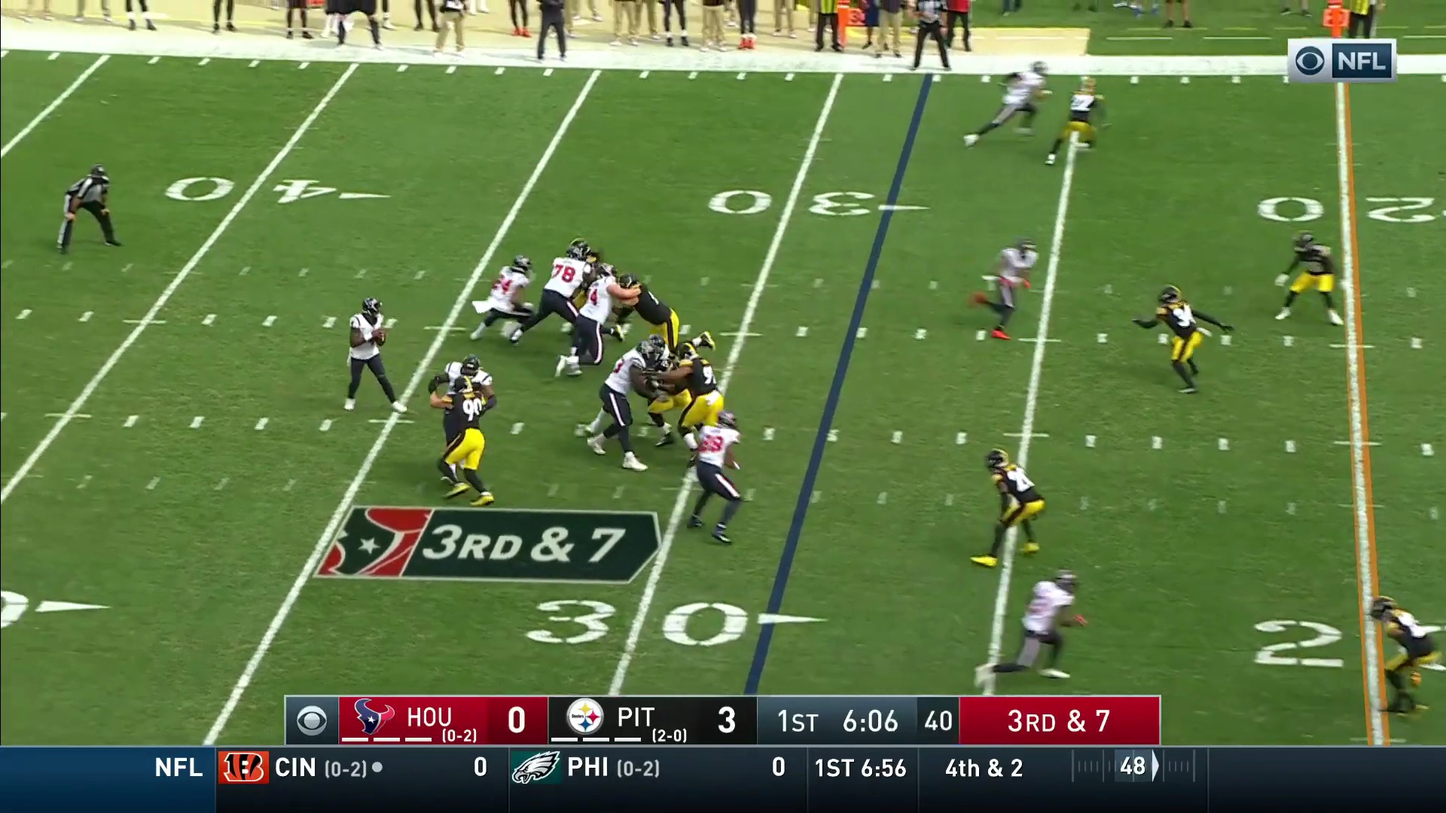Player: (1371, 596, 1431, 713), (985, 448, 1045, 564), (441, 356, 495, 476), (693, 411, 741, 542), (1019, 575, 1079, 678), (974, 240, 1038, 336), (1277, 233, 1341, 324), (474, 255, 533, 342), (1046, 75, 1104, 162), (676, 335, 723, 440), (1156, 285, 1202, 392), (540, 248, 585, 330), (594, 269, 644, 338), (574, 282, 612, 365), (580, 263, 618, 336)
